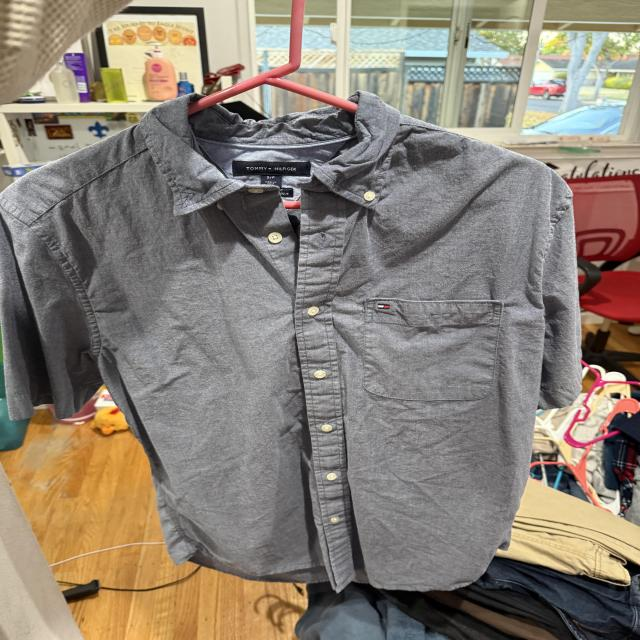back_tag: (230, 158, 316, 198)
